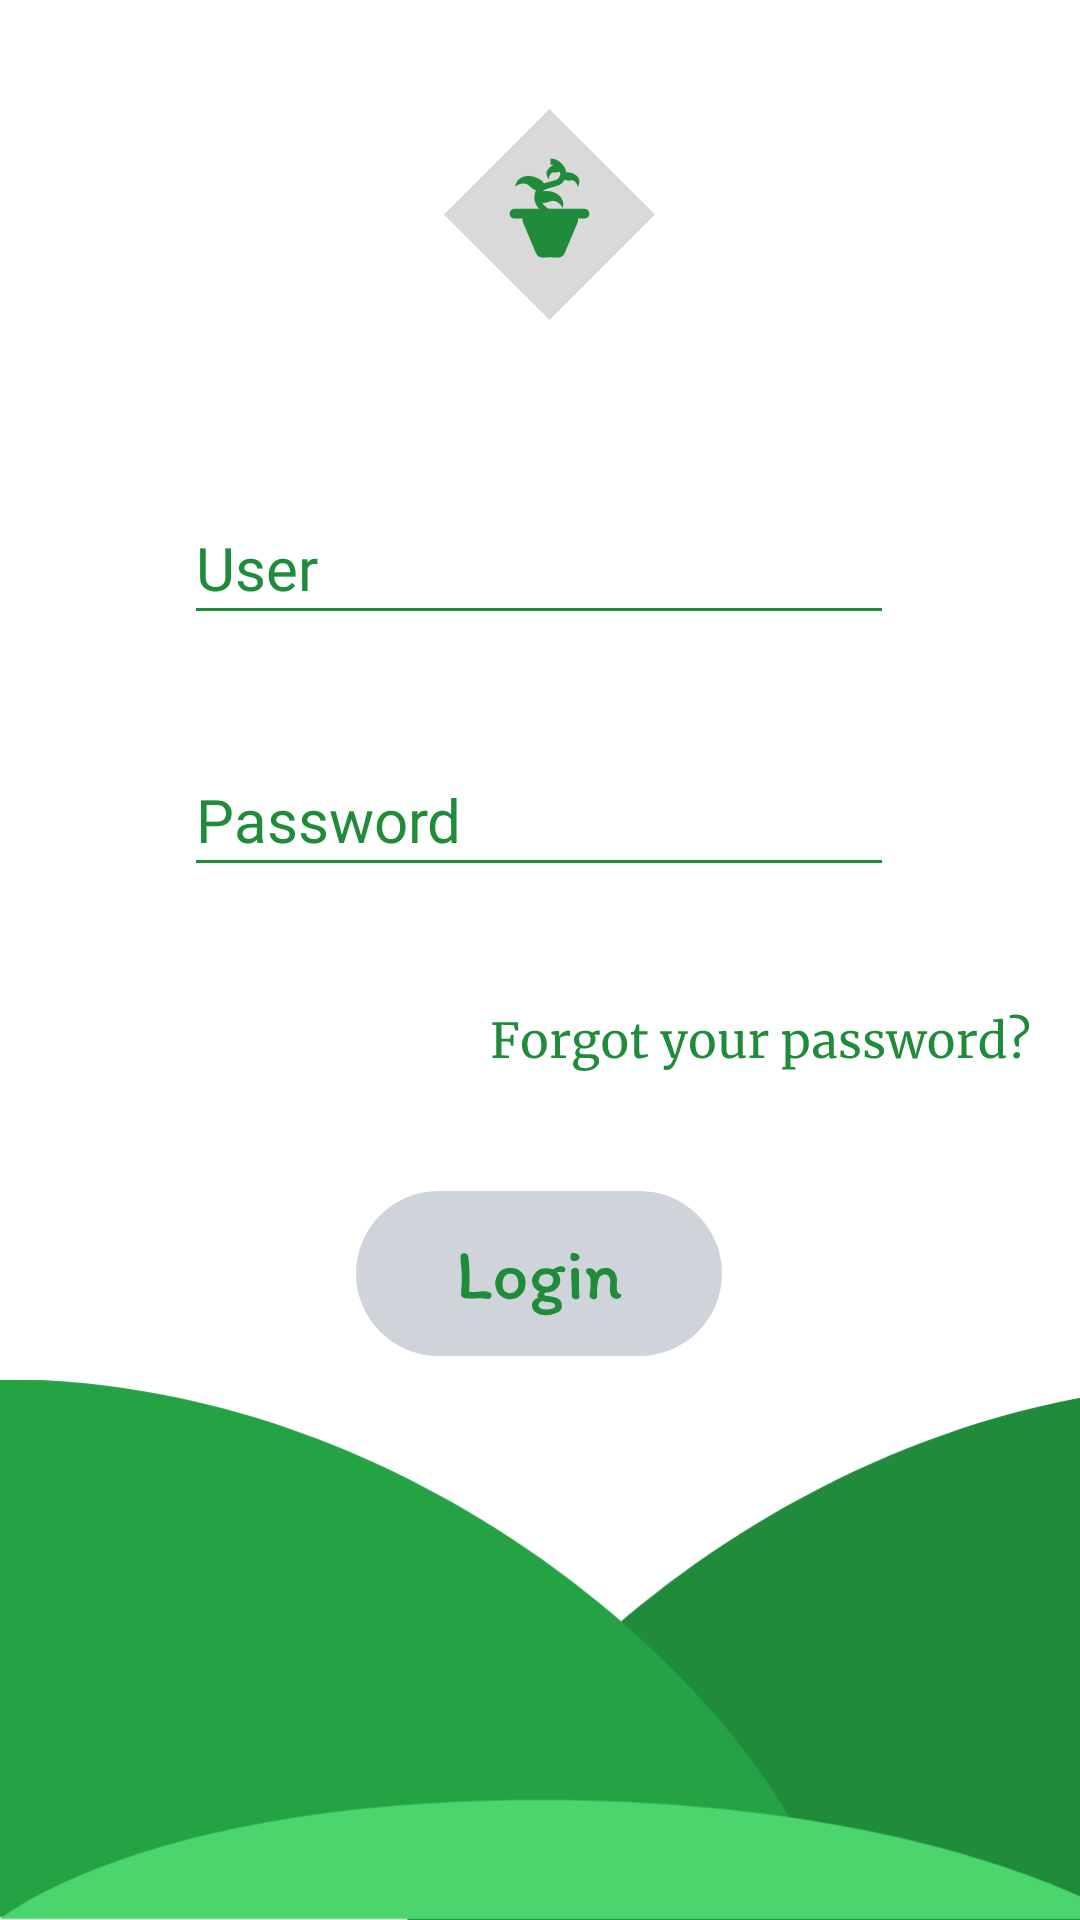

Where to tap for icons on this 1080w x 1920h app screen, as (x=x, y=y):
symbol: (x=549, y=214)
